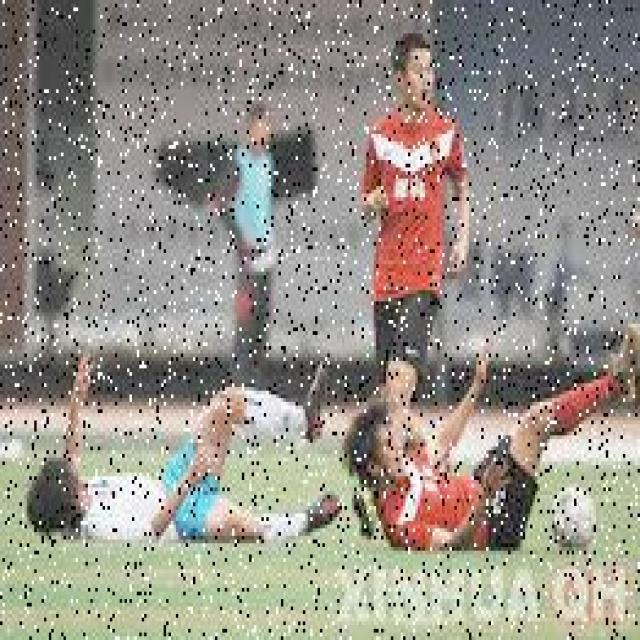fall: (24, 338, 334, 536), (354, 368, 554, 558)
